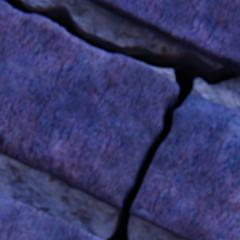brick: (86, 0, 239, 75), (0, 194, 101, 239)
broken_brick: (0, 1, 178, 210), (130, 94, 239, 239)
crack: (0, 0, 239, 239)
